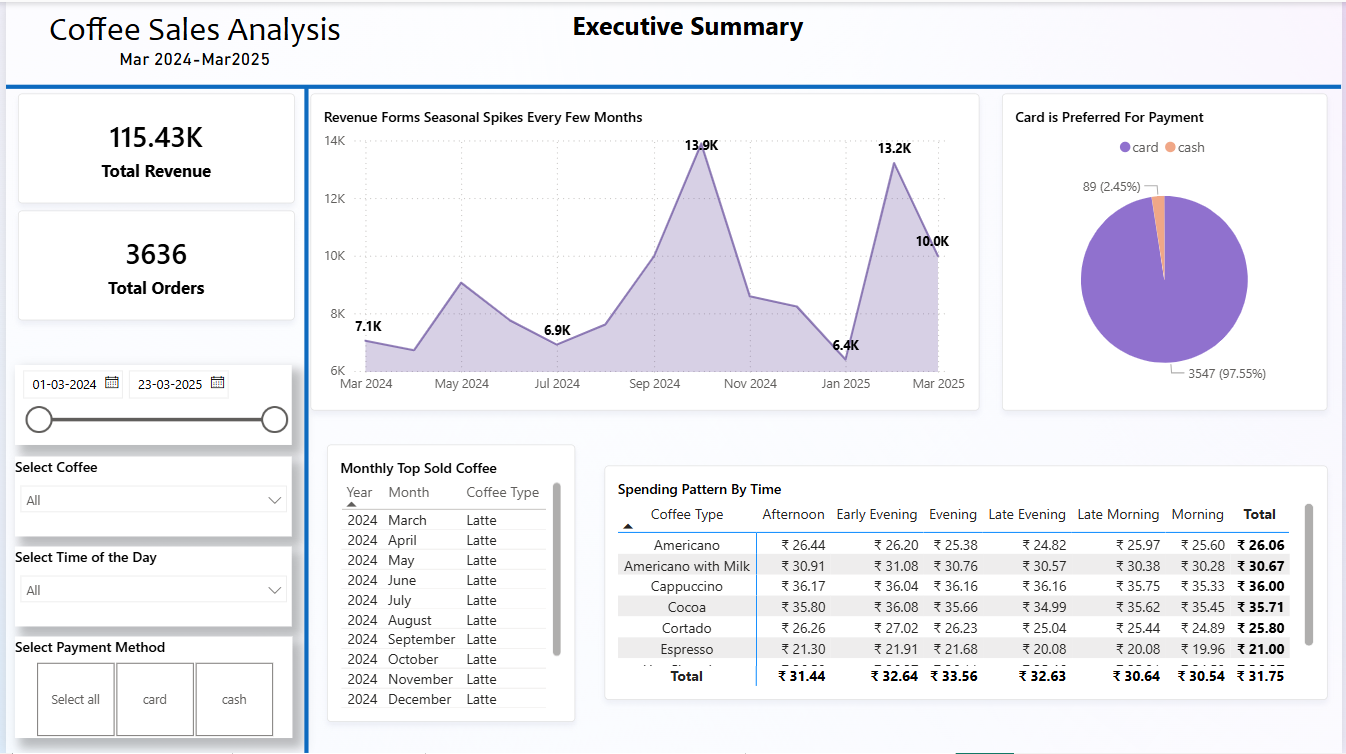

The dashboard page shown, as its layout file describes it:
{"tool":"powerbi","page":{"name":"Executive Summary","canvas":[1280,720],"ordinal":0},"visuals":[{"type":"textbox","box":[0,0,362.4,74.8],"z":0},{"type":"slicer","fields":{"Values":["Coffee_Sales_Dataset.Date"]},"box":[9.1,348.2,265.5,76.4],"z":1000},{"type":"slicer","title":"Select Coffee","fields":{"Values":["Coffee_Sales_Dataset.Coffee_Name"]},"box":[9.1,435.5,265.5,76.4],"z":2000},{"type":"slicer","title":"Select Time of the Day","fields":{"Values":["Coffee_Sales_Dataset.Times of The Day"]},"box":[9.1,521.8,265.5,76.4],"z":3000},{"type":"slicer","title":"Select Payment Method","fields":{"Values":["Coffee_Sales_Dataset.Payment_method"]},"box":[9,608,266,97],"z":4000},{"type":"card","title":"Total Orders","fields":{"Values":["Coffee_Sales_Dataset.Total_orders"]},"box":[11.8,200,265.5,105.5],"z":5000},{"type":"card","title":"Total Orders","fields":{"Values":["Coffee_Sales_Dataset.Total_Revenue"]},"box":[11.8,88.2,265.5,105.5],"z":6000},{"type":"lineChart","title":"Revenue Forms Seasonal Spikes Every Few Months","fields":{"Y":["Coffee_Sales_Dataset.Total_Revenue"],"Category":["Coffee_Sales_Dataset.Date.Variation.Date Hierarchy.Year","Coffee_Sales_Dataset.Date.Variation.Date Hierarchy.Month"]},"box":[292,88,641,304],"z":7000},{"type":"pieChart","title":"Card is Preferred For Payment","fields":{"Category":["Coffee_Sales_Dataset.Payment_method"],"Y":["Coffee_Sales_Dataset.Total_orders"]},"box":[955,88,312,304],"z":8000},{"type":"tableEx","title":"Monthly Top Sold Coffee","fields":{"Values":["Coffee_Sales_Dataset.Date.Variation.Date Hierarchy.Year","Coffee_Sales_Dataset.Date.Variation.Date Hierarchy.Month","Coffee_Sales_Dataset.Coffee_Name"]},"box":[308,424,238,266],"z":9000},{"type":"pivotTable","title":"Spending Pattern By Time","fields":{"Columns":["Coffee_Sales_Dataset.Time of The Day"],"Values":["Coffee_Sales_Dataset.Avg Cost"],"Rows":["Coffee_Sales_Dataset.Coffee_Name"]},"box":[573.8,444.4,693.2,224.3],"z":10000},{"type":"shape","box":[0,75,1280,13],"z":11000},{"type":"shape","box":[277,82,21,638],"z":12000},{"type":"textbox","box":[362.4,0,582.4,47.5],"z":13000}]}

Visuals, with their boxes in screenshot pixels (x1, y1, x2, y2), scaled from the page's 1280x720 canvas onto the 1346x754 screenshot:
textbox: box(0, 0, 381, 78)
slicer - Coffee_Sales_Dataset.Date: box(10, 365, 289, 445)
"Select Coffee" slicer: box(10, 456, 289, 536)
"Select Time of the Day" slicer: box(10, 546, 289, 626)
"Select Payment Method" slicer: box(9, 637, 289, 738)
"Total Orders" card: box(12, 209, 292, 320)
"Total Orders" card: box(12, 92, 292, 203)
"Revenue Forms Seasonal Spikes Every Few Months" lineChart: box(307, 92, 981, 411)
"Card is Preferred For Payment" pieChart: box(1004, 92, 1332, 411)
"Monthly Top Sold Coffee" tableEx: box(324, 444, 574, 723)
"Spending Pattern By Time" pivotTable: box(603, 465, 1332, 700)
shape: box(0, 79, 1345, 92)
shape: box(291, 86, 313, 753)
textbox: box(381, 0, 994, 50)
